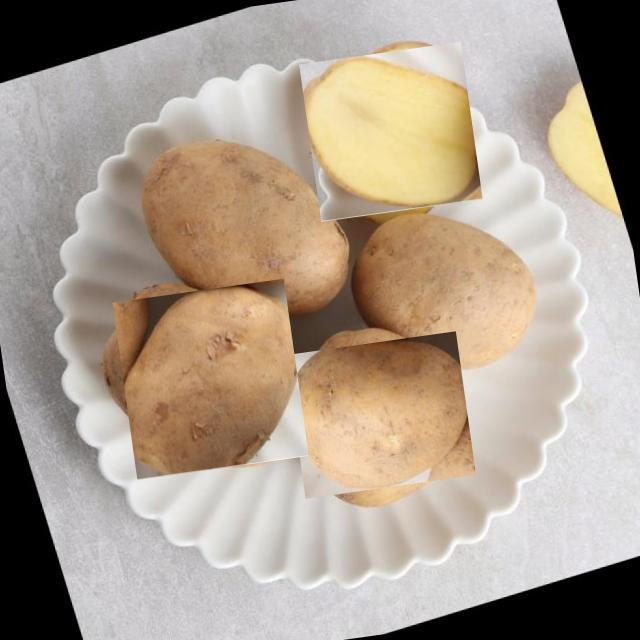potato: (110, 280, 310, 478), (300, 41, 482, 223), (292, 326, 470, 505)
